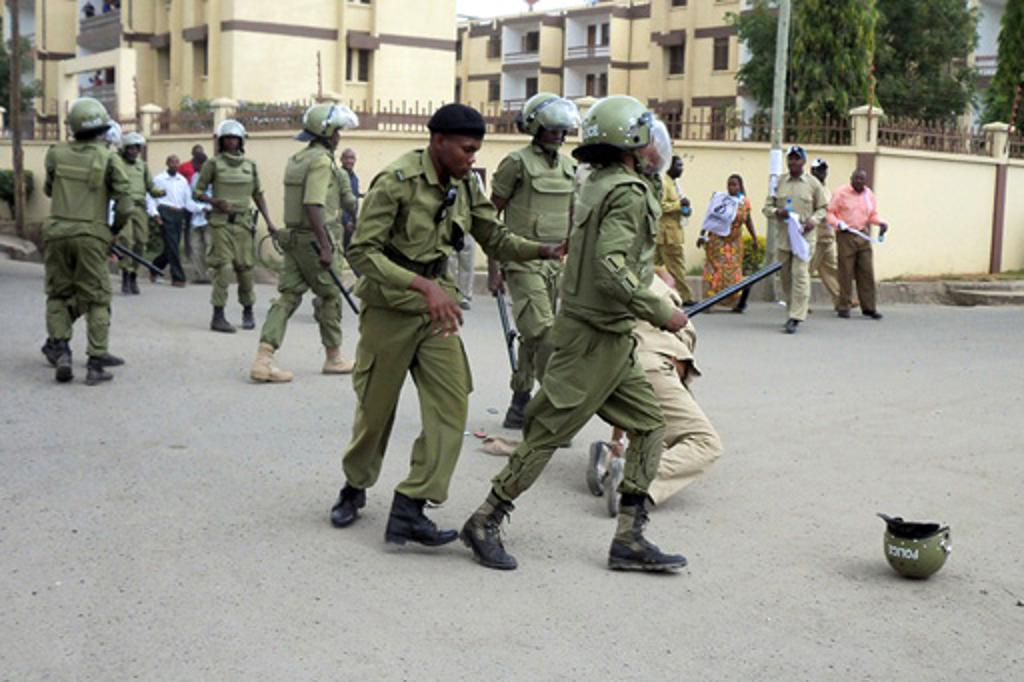face: (443, 132, 480, 177), (543, 117, 564, 148), (224, 131, 238, 150), (788, 154, 802, 172), (331, 126, 342, 148), (126, 144, 140, 160), (854, 174, 866, 190), (673, 160, 683, 178), (728, 178, 739, 194), (815, 165, 826, 180), (345, 153, 355, 169), (169, 157, 179, 171), (196, 148, 202, 157)
